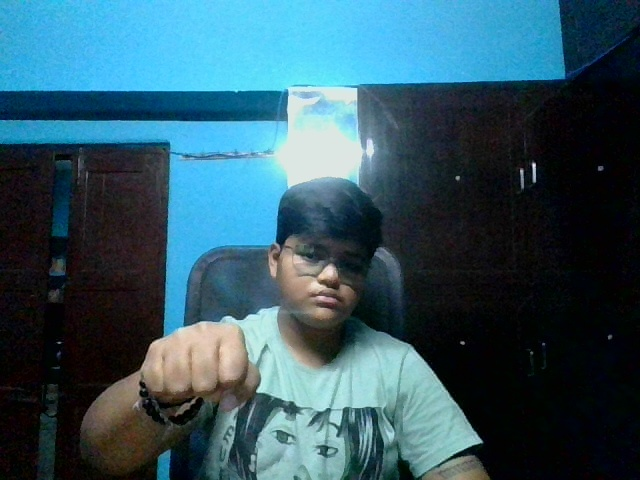YES: (114, 301, 280, 476)
